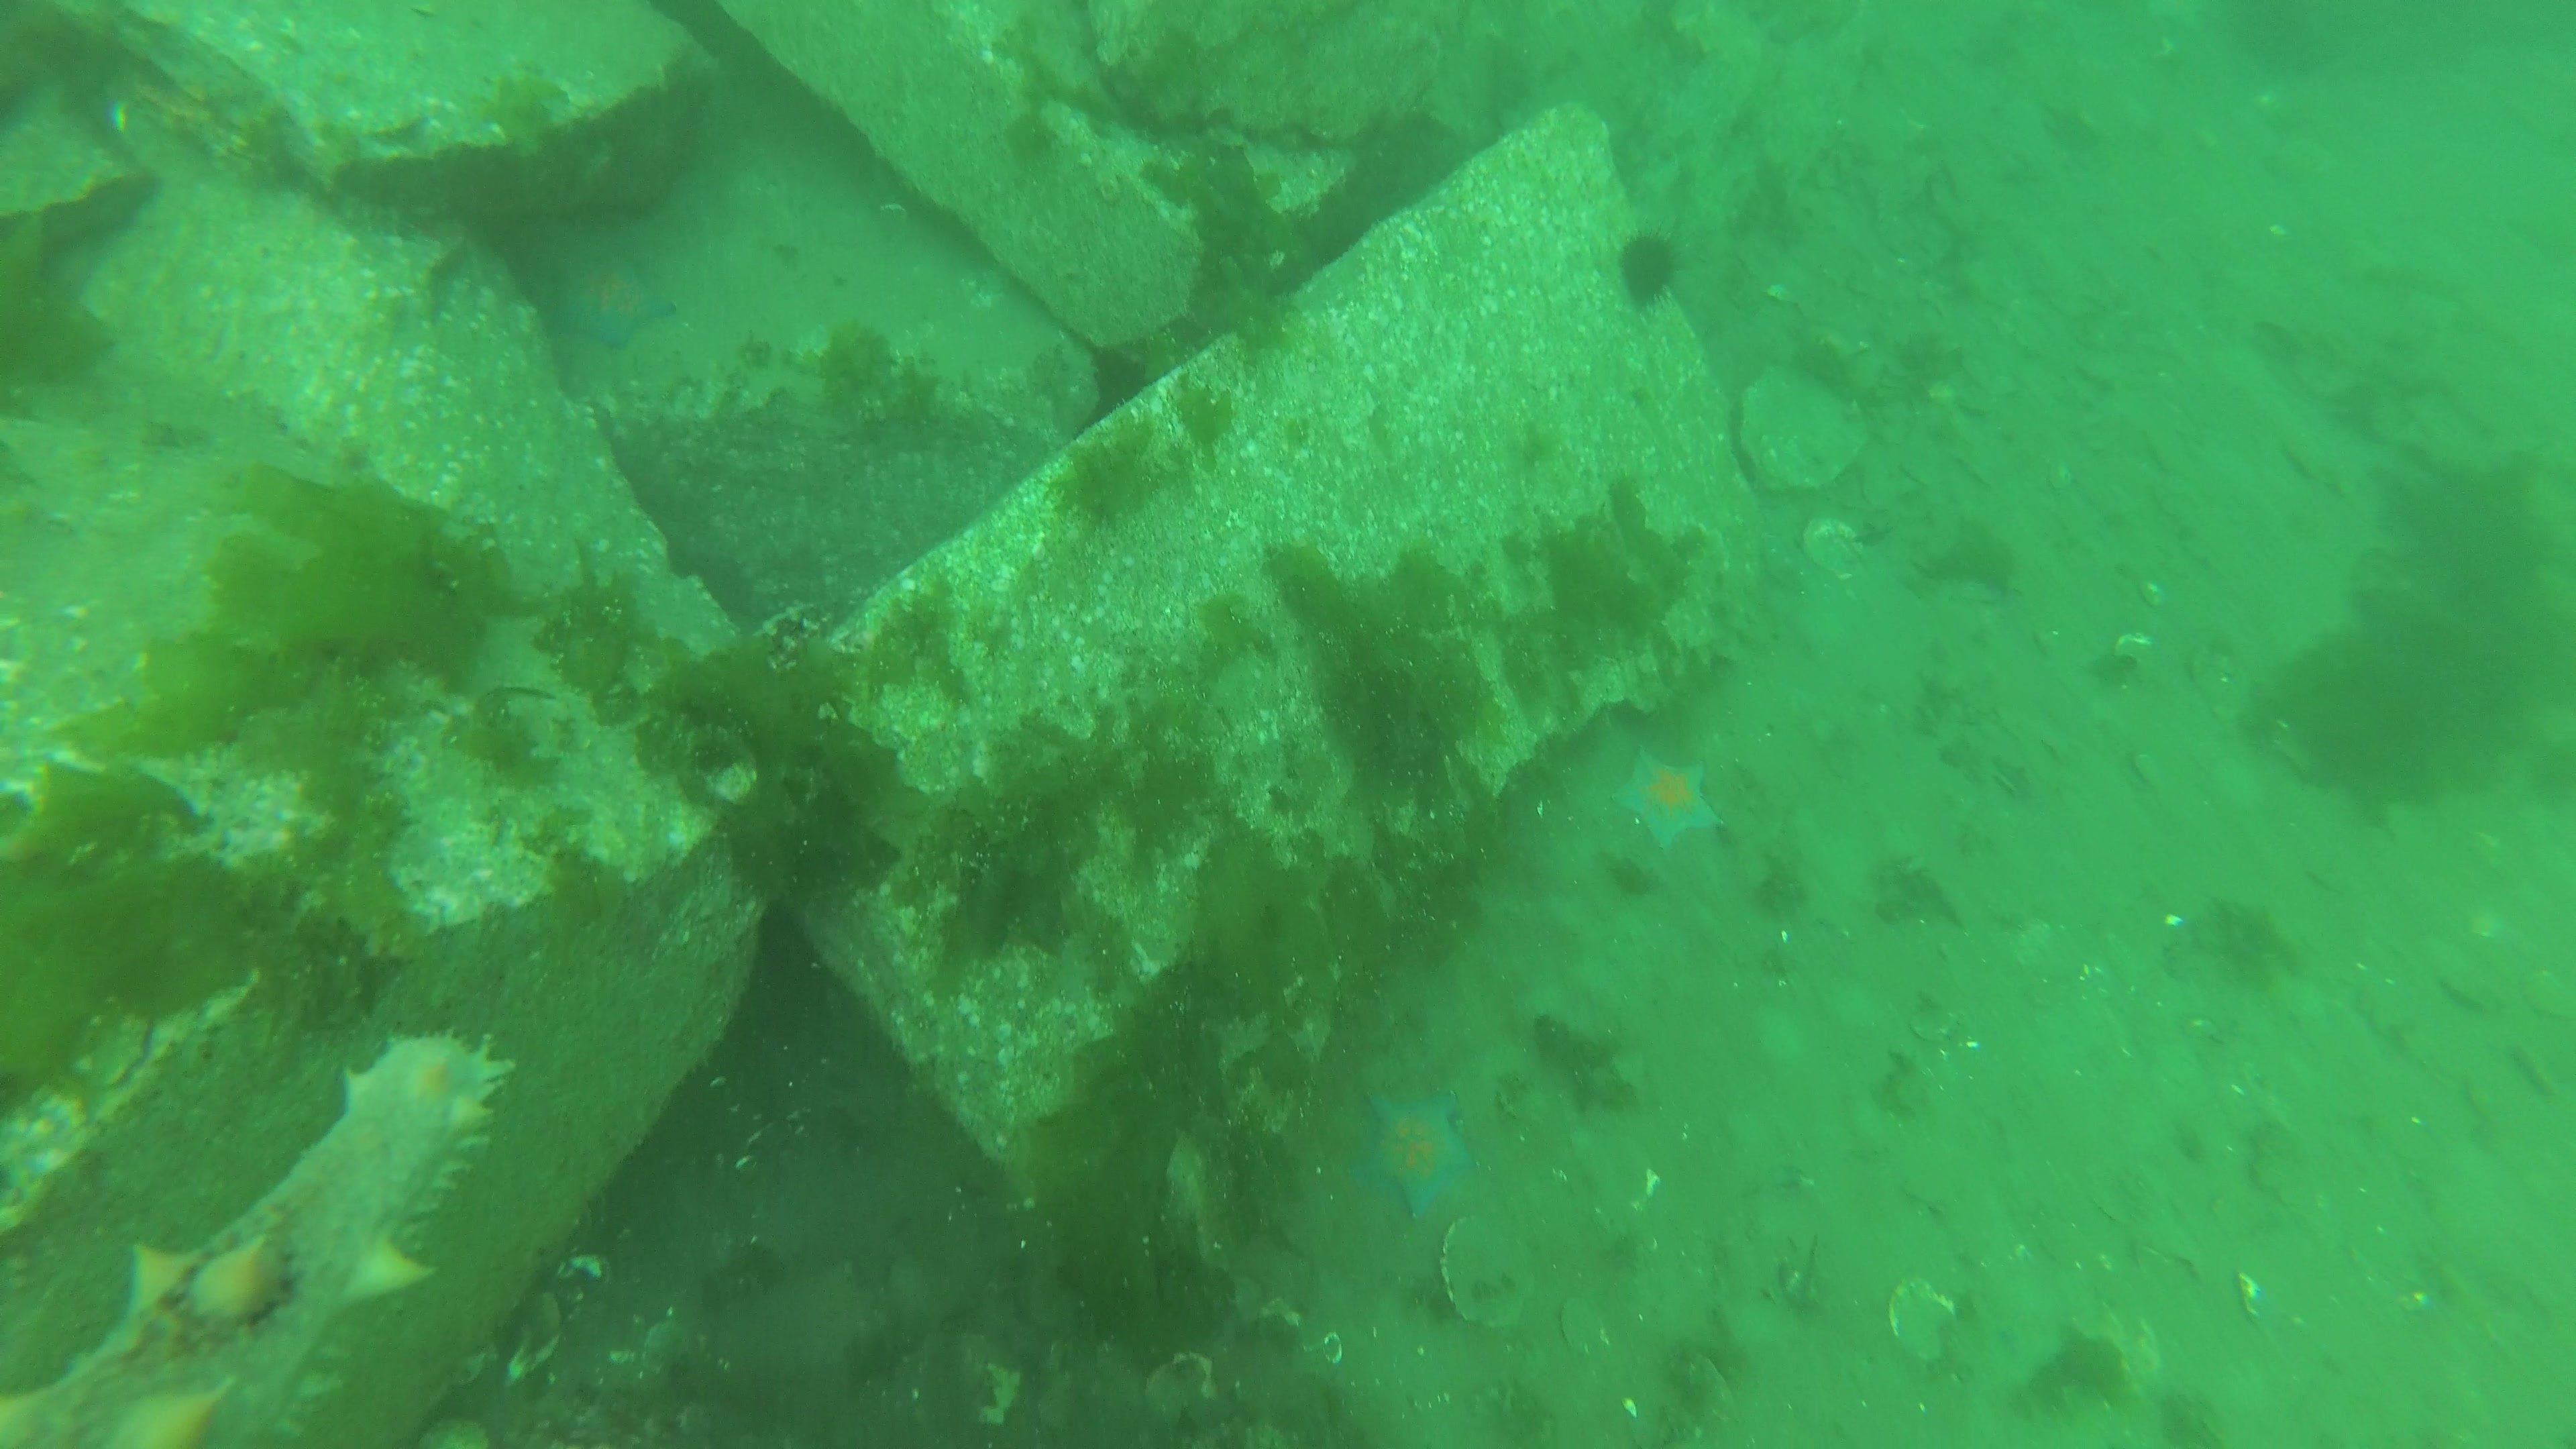echinus: (1617, 221, 1679, 308)
holothurian: (0, 1021, 522, 1449)
scallop: (1440, 1210, 1539, 1332), (1886, 1272, 1960, 1366), (1803, 511, 1870, 582)
starfish: (1361, 1081, 1479, 1226), (541, 251, 683, 347), (1610, 741, 1729, 855)
